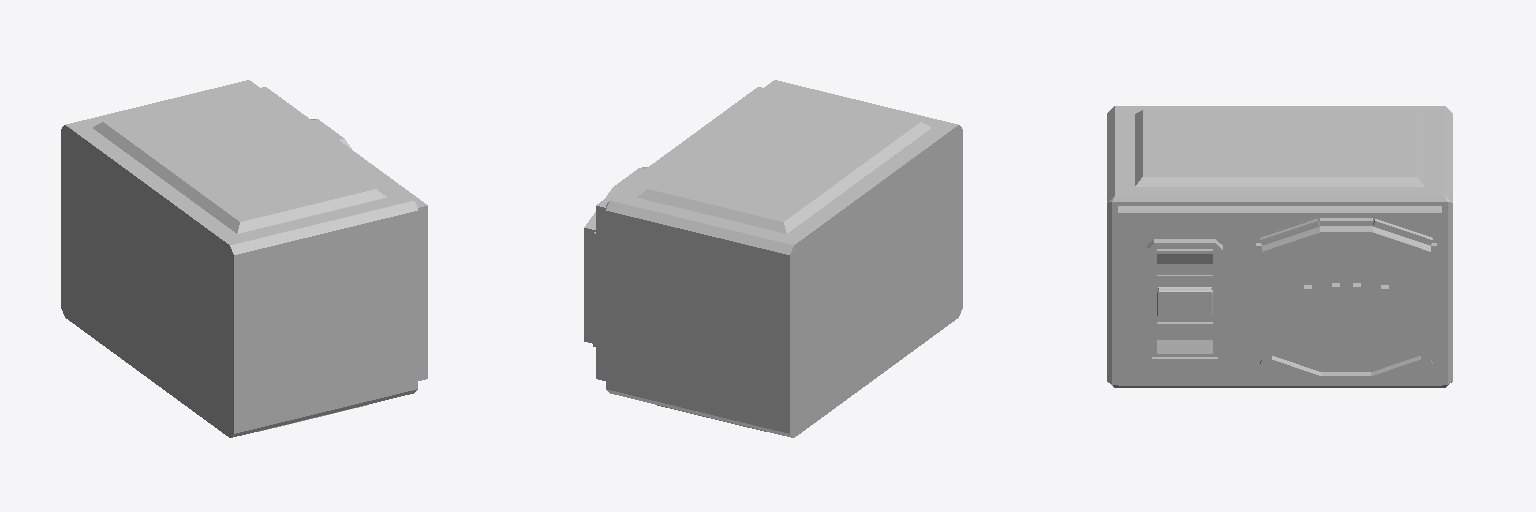
File: AC_Unit1.obj
3 views of the same model, side by side, from view 1: azimuth 30°, elevation 25°; view 2: azimuth 150°, elevation 25°; view 3: azimuth 270°, elevation 25° (orthographic).
Parts seen in each view (by area): view 1: Cube1; view 2: Cube1, octotoad4; view 3: Cube1, octotoad4.
Boxes of the visible parts, x1,y1,x2,y2 form: Cube1: [61, 80, 427, 437]; Cube1: [596, 80, 962, 437]; octotoad4: [584, 167, 647, 346]; Cube1: [1107, 106, 1452, 387]; octotoad4: [1256, 218, 1436, 384].
Bounding box in the file's own units: 2.36 × 2.17 × 3.25.